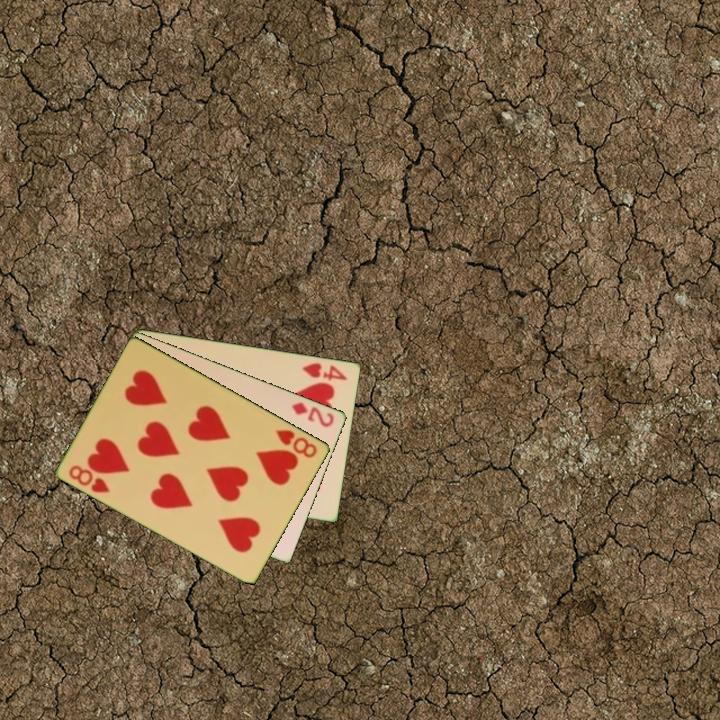2d: (288, 398, 337, 430)
4h: (299, 359, 350, 383)
8h: (272, 426, 321, 461), (66, 461, 113, 496)
